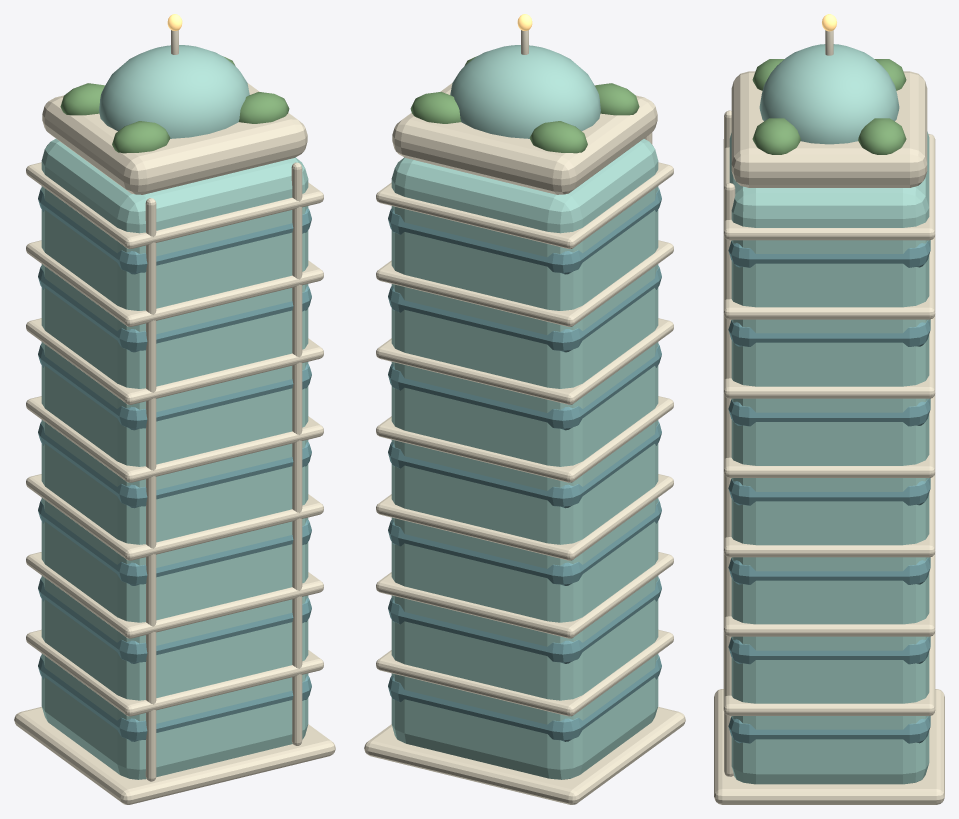
File: tower.glb
The picture shows the model from 3 angles, left to right: view 1: azimuth 30°, elevation 25°; view 2: azimuth 150°, elevation 25°; view 3: azimuth 270°, elevation 25°; orthographic projection.
Visible parts, largest first — view 1: tower; view 2: tower; view 3: tower.
Part boxes in pixels (box(x1,y1,x2,y2)): tower: box(14, 14, 335, 804); tower: box(364, 14, 685, 804); tower: box(714, 14, 944, 804).
Bounding box in the file's own units: 7.2 × 23.33 × 6.6.
